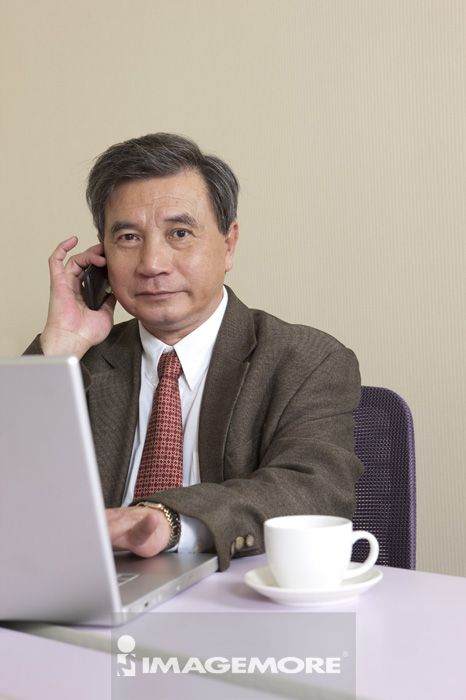talk: (42, 212, 208, 349)
